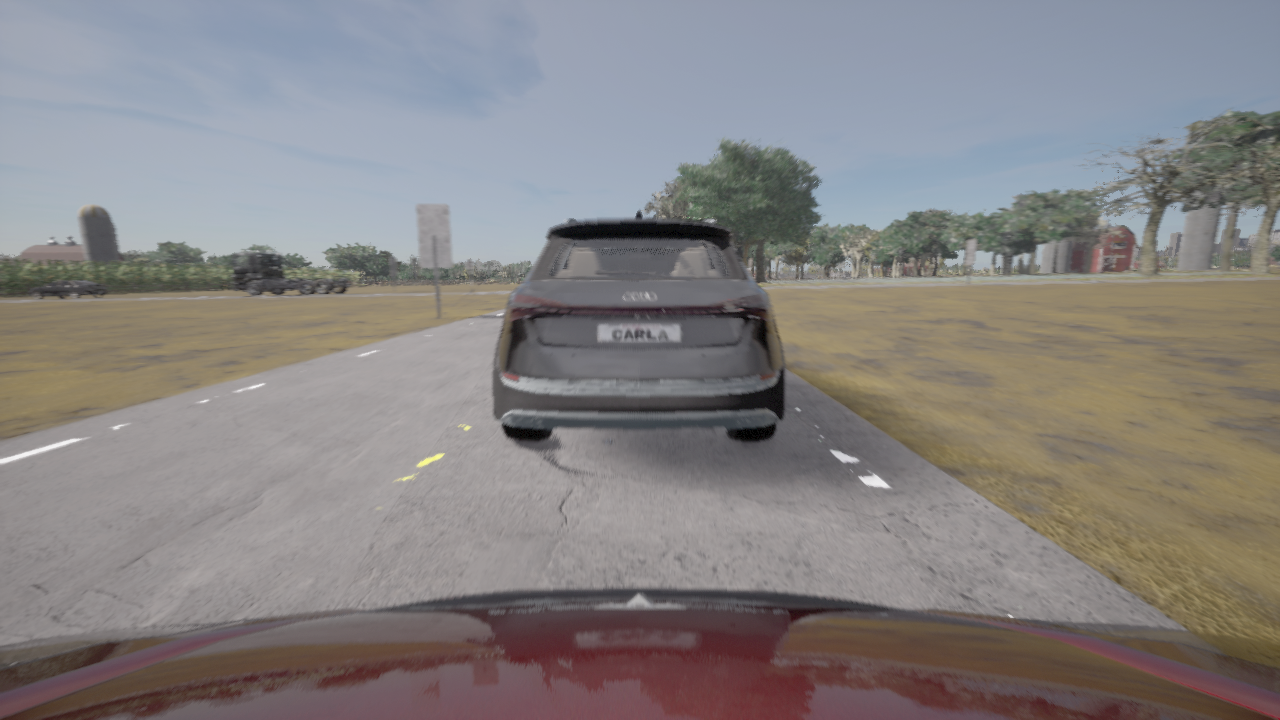cyclist: (0, 588, 1279, 719), (493, 210, 784, 441), (231, 252, 355, 296), (28, 280, 106, 299)
